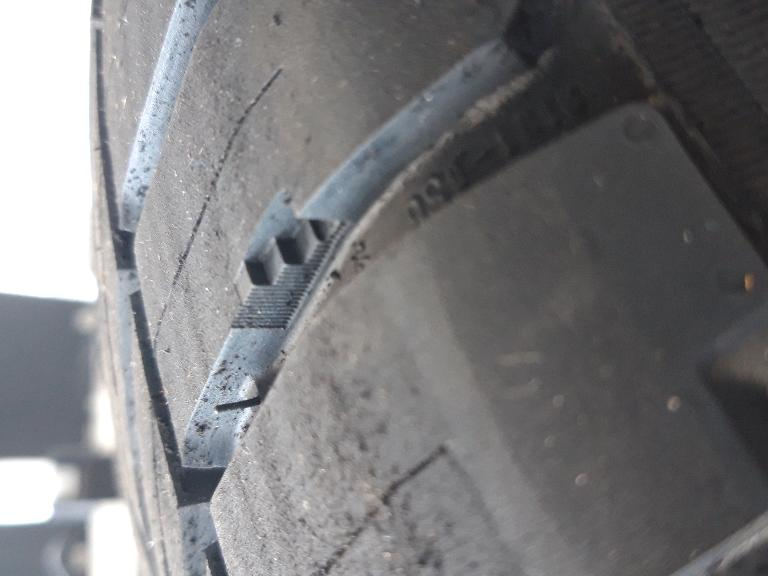temoin:75: (229, 181, 353, 316)
